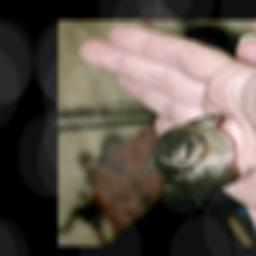Swallow: (142, 112, 256, 214)
